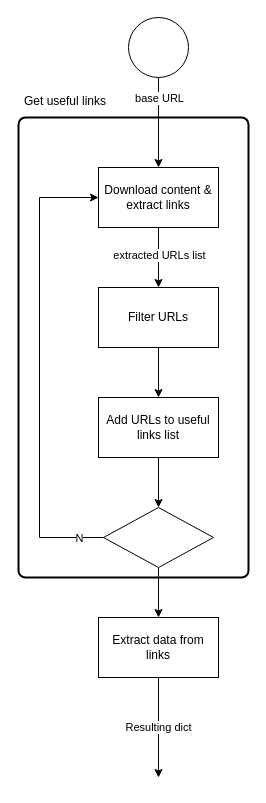
The diagram is 266 pixels wide and 803 high, and some of its shapes have lost their labels. Each missing label, with the box of its shape:
Nb links > THRESH?: (102, 506, 214, 568)
START: (128, 16, 188, 78)
